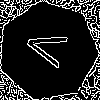V: (23, 26, 77, 71)
